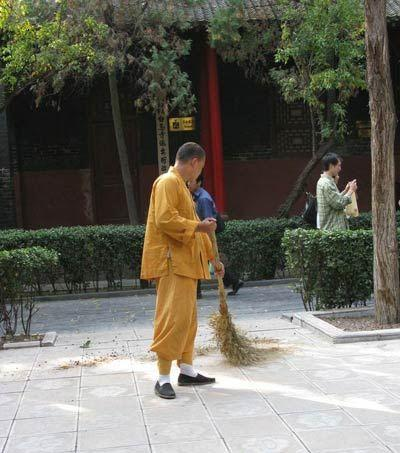person: (142, 142, 226, 403)
